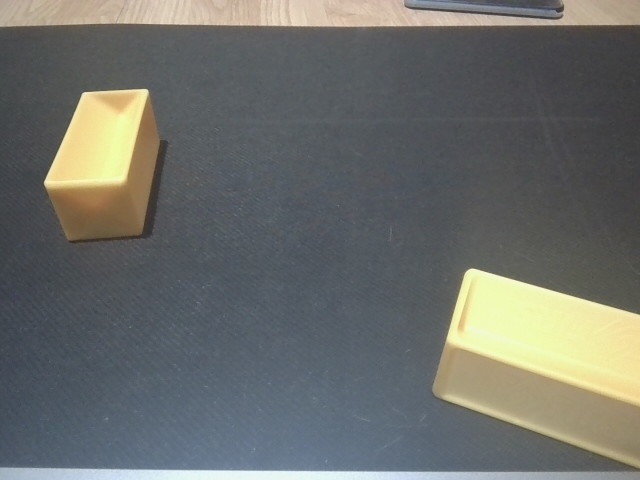YellowSample: (429, 264, 640, 470), (39, 86, 167, 246)
